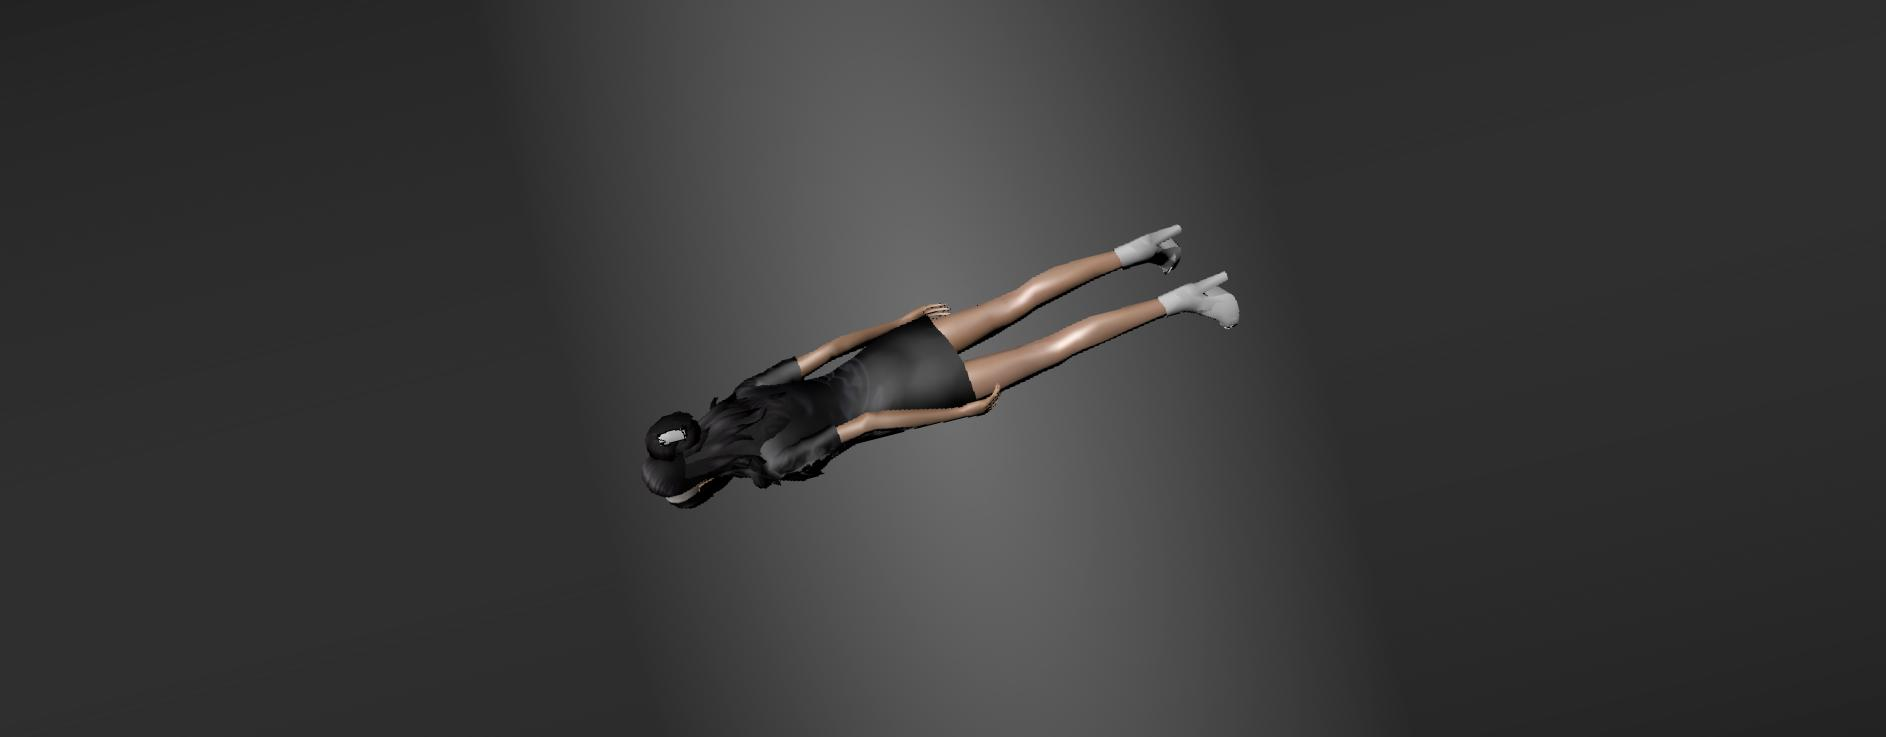clip: (659, 424, 684, 448)
